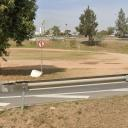NoSeguir: (38, 40, 45, 48)
